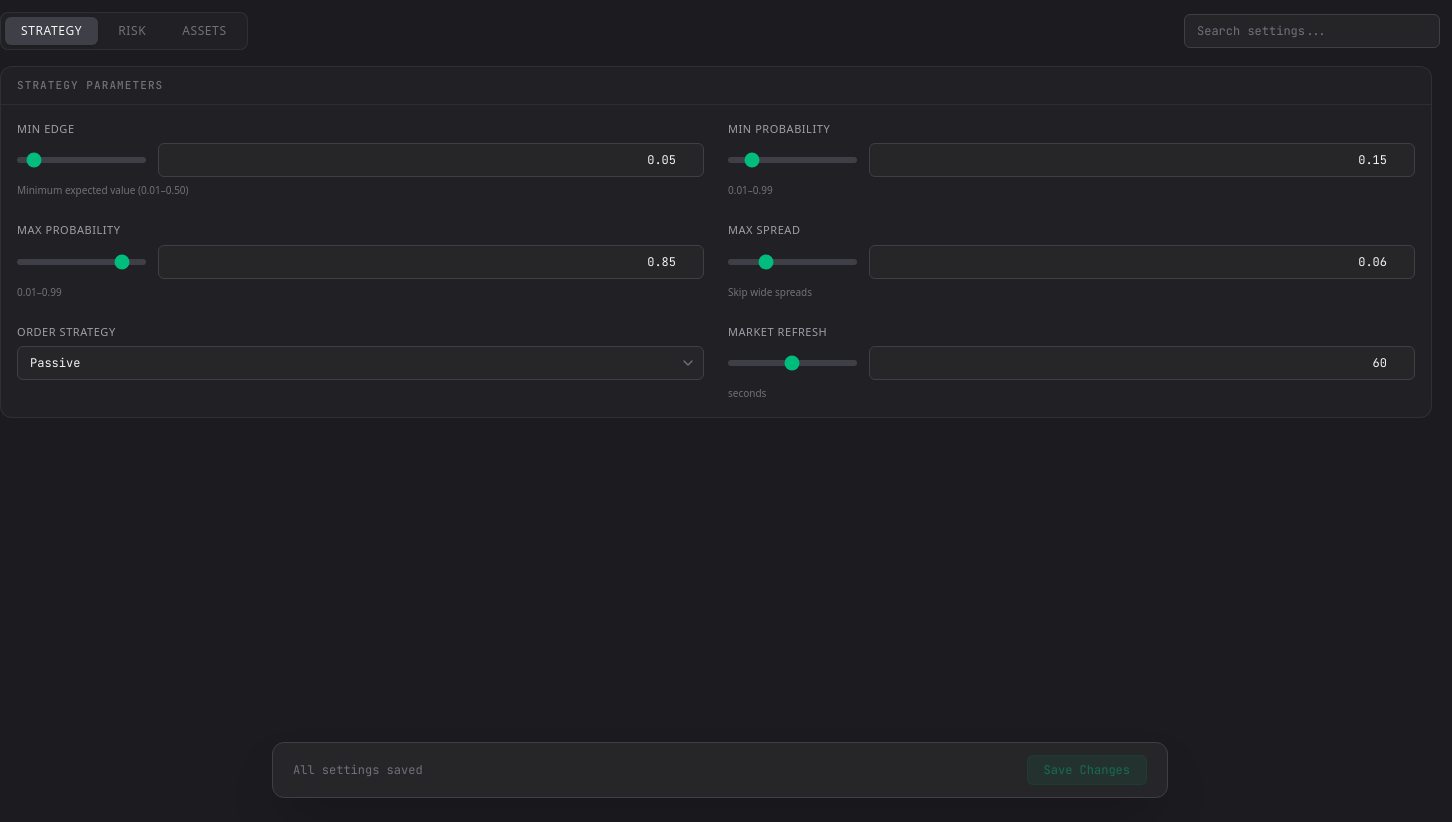
Test: Settings › renders backend error and removes orphaned active assets from draft
Click the button "assets": (204, 31) [166,17,243,45]
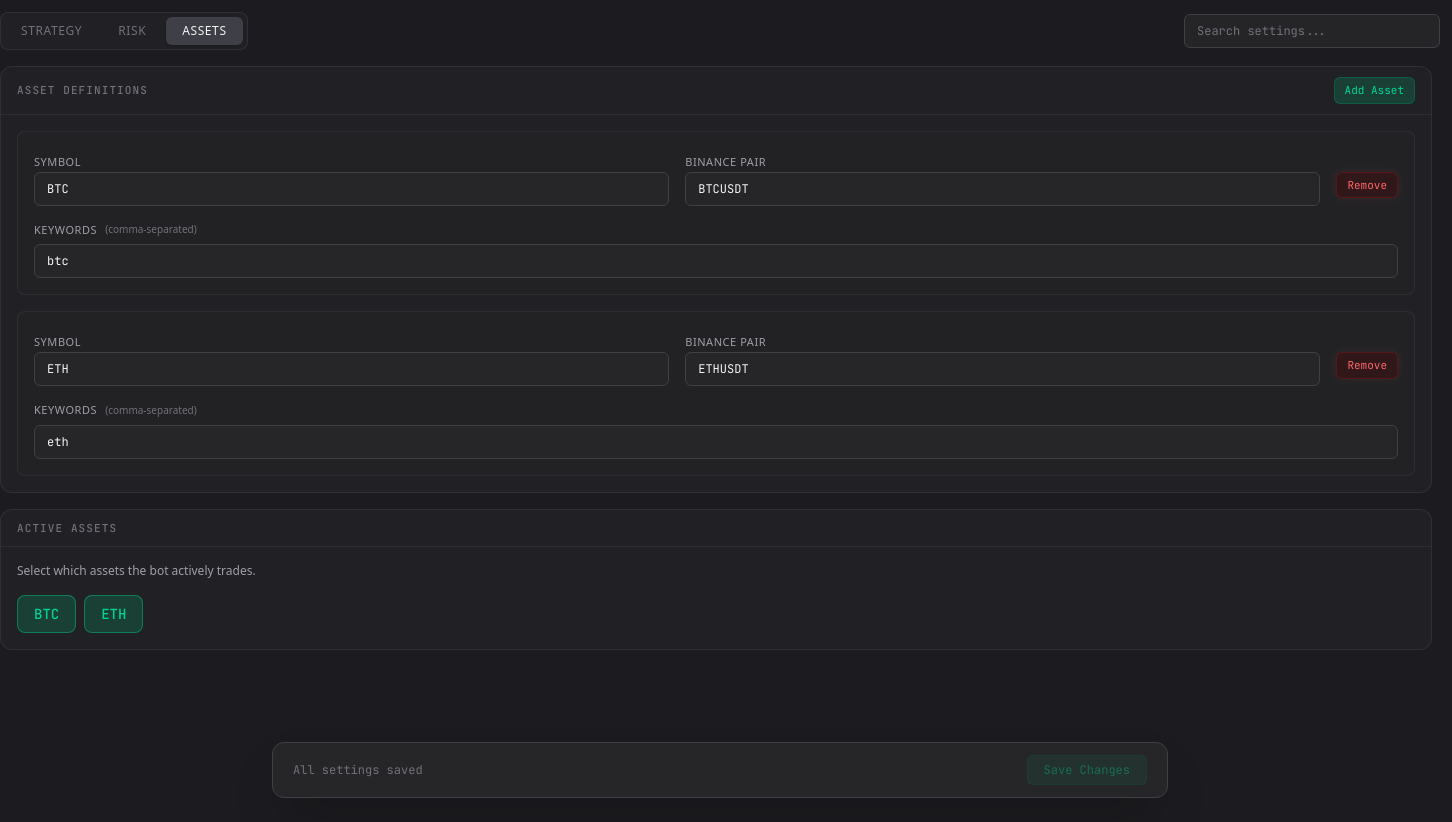
Click the 1st button "Remove": (1367, 185) [1336,172,1398,198]
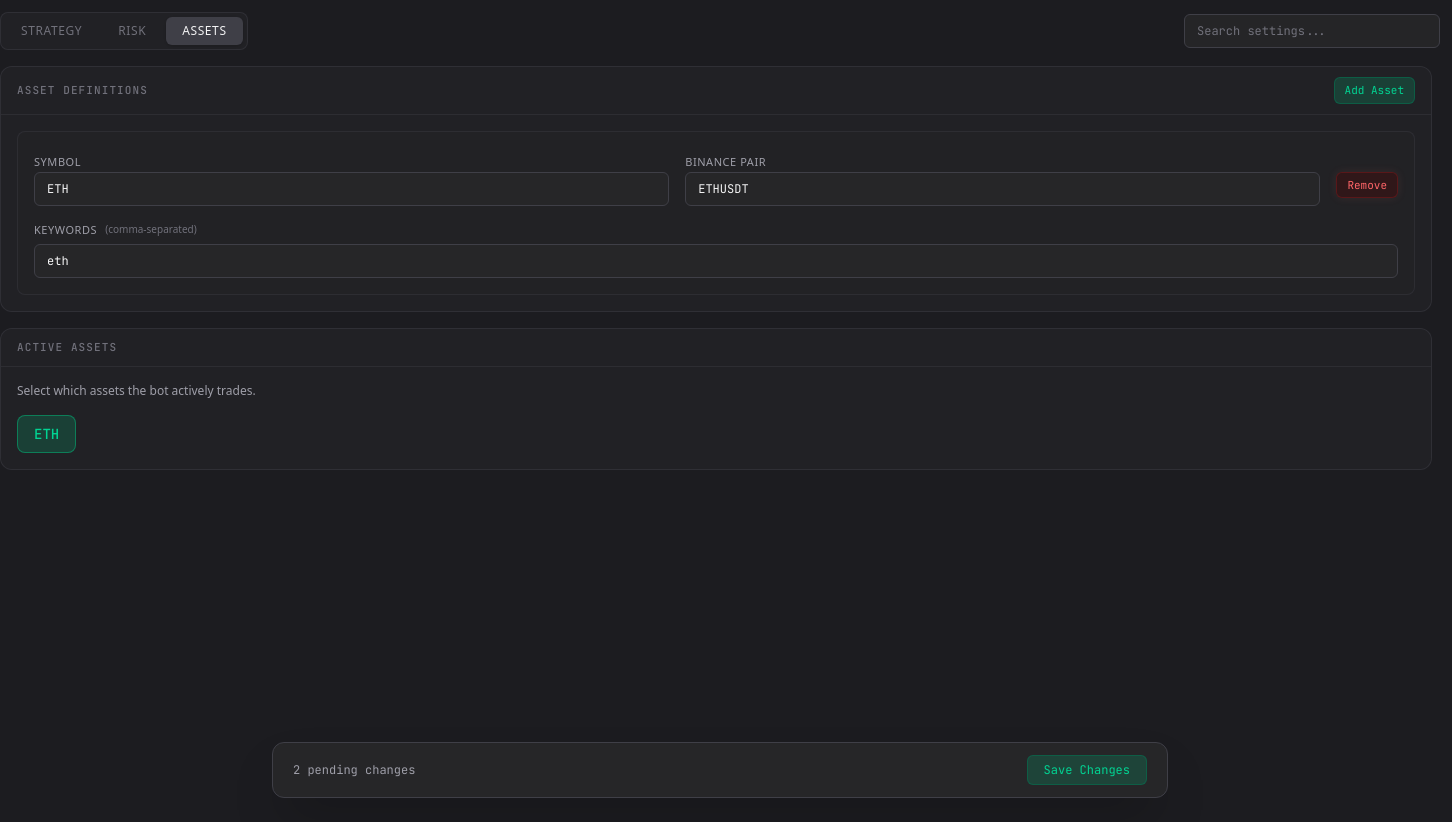
expect the button "BTC" is gone: met
expect the button "Save Changes" is enabled: met
Click the button "Save Changes": (1087, 770) [1027,755,1147,785]
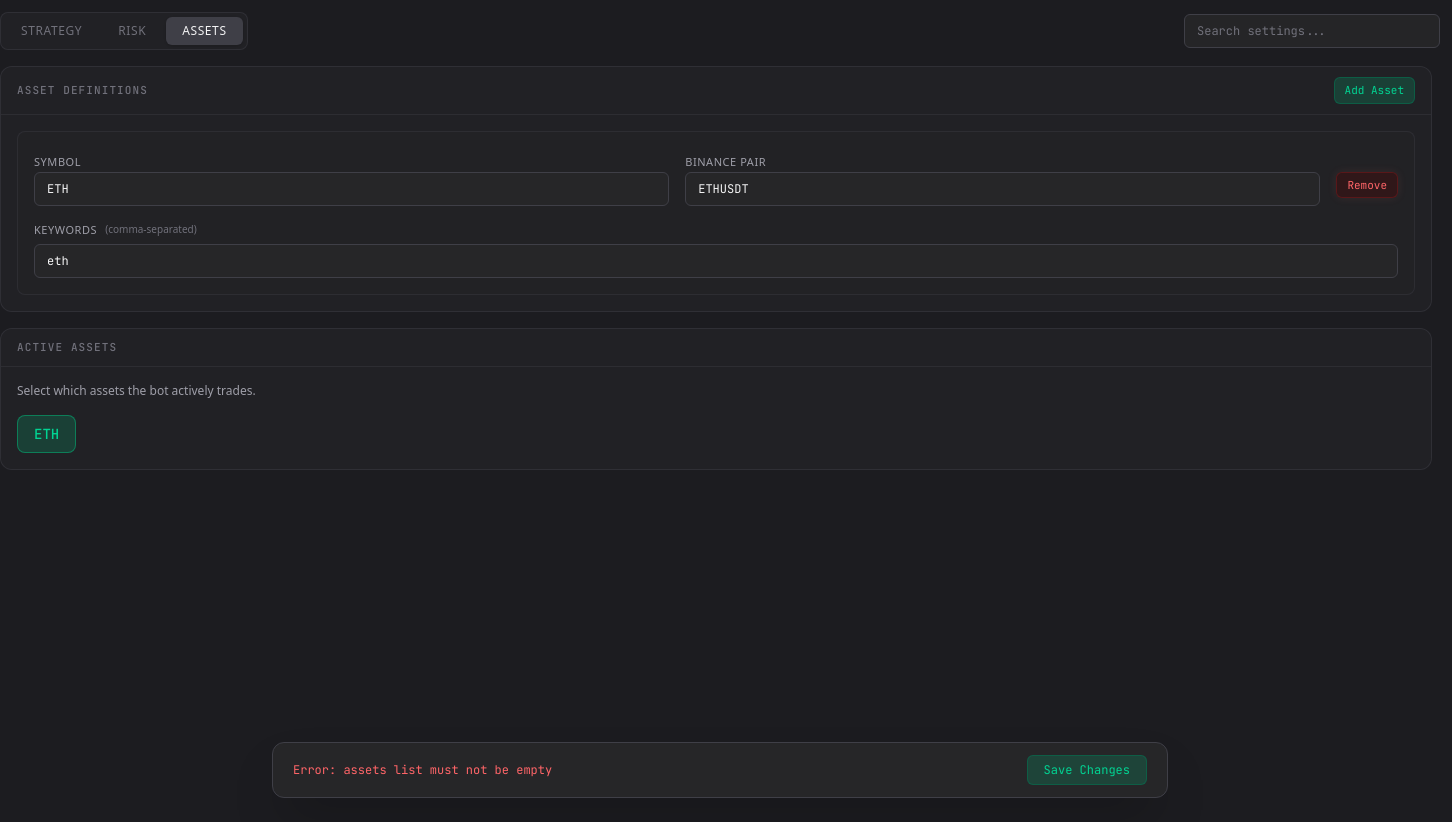
expect the text "Error: assets list must not be empty" is shown: met, box [293,762,552,778]
